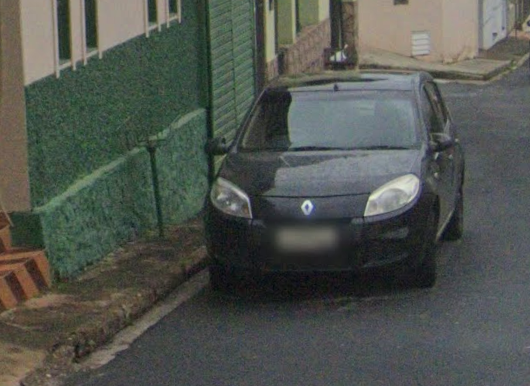car: (198, 67, 478, 299)
